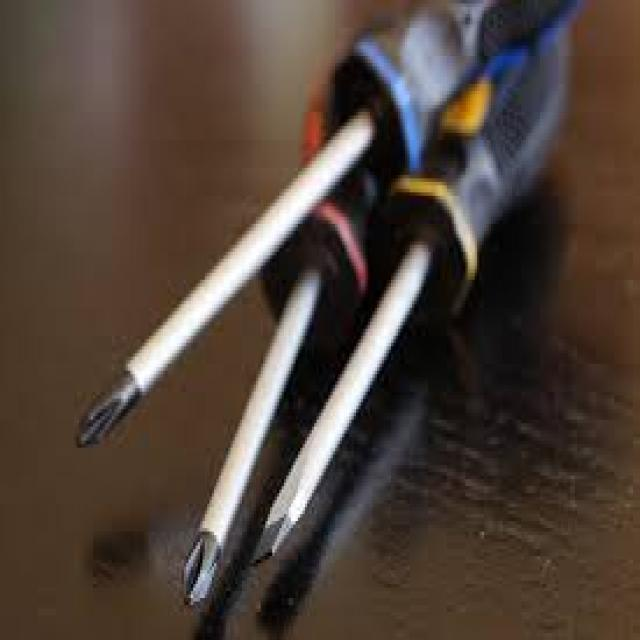screwdriver: (73, 0, 576, 451), (252, 42, 562, 581), (174, 73, 384, 619)
